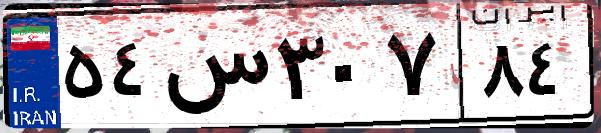0: (330, 28, 385, 110)
3: (270, 28, 330, 110)
4: (525, 38, 570, 115), (110, 28, 158, 98)
5: (57, 26, 110, 100)
7: (385, 28, 445, 110)
8: (475, 38, 525, 113)
س: (158, 20, 270, 120)
